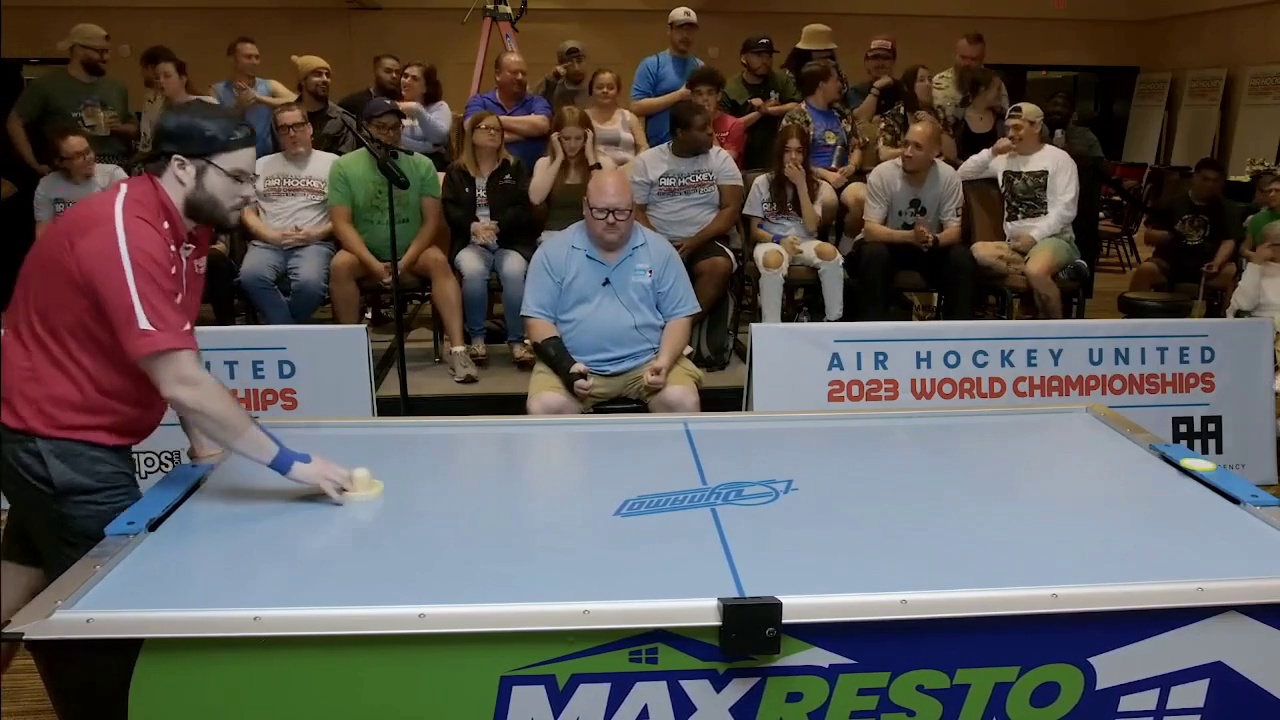player: (336, 464, 388, 501)
puck: (1180, 454, 1220, 474)
table: (48, 411, 1280, 597)
